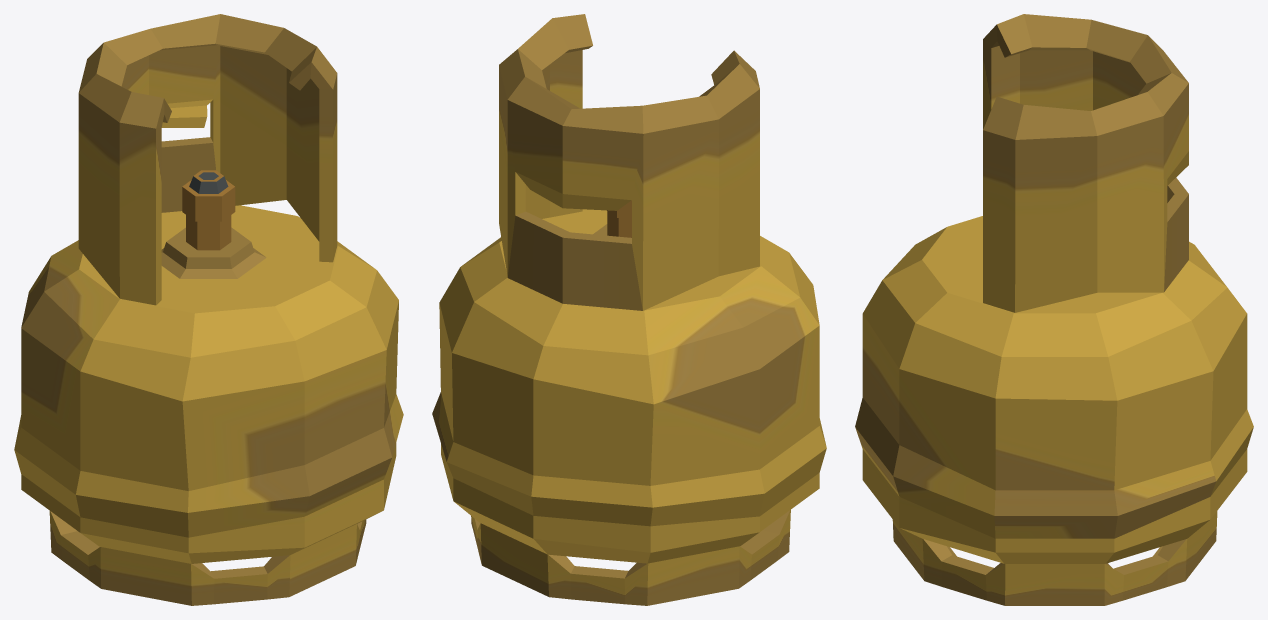
Rendered from SM_Barrel_B_03.fbx.
3 views of the same model, side by side, from view 1: azimuth 30°, elevation 25°; view 2: azimuth 150°, elevation 25°; view 3: azimuth 270°, elevation 25° (orthographic).
Visible parts, largest first — view 1: SM_Barrel_B_03; view 2: SM_Barrel_B_03; view 3: SM_Barrel_B_03.
Part boxes in pixels (x1=…): SM_Barrel_B_03: x1=14, y1=14, x2=403, y2=605; SM_Barrel_B_03: x1=432, y1=14, x2=826, y2=605; SM_Barrel_B_03: x1=855, y1=14, x2=1253, y2=605.
Size of the model in its own units: 36.62 by 51.39 by 38.39.
